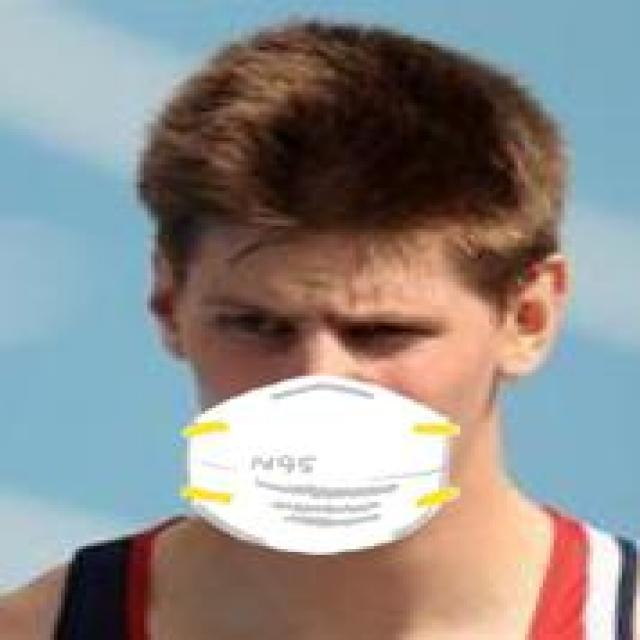mask: (94, 41, 600, 549)
